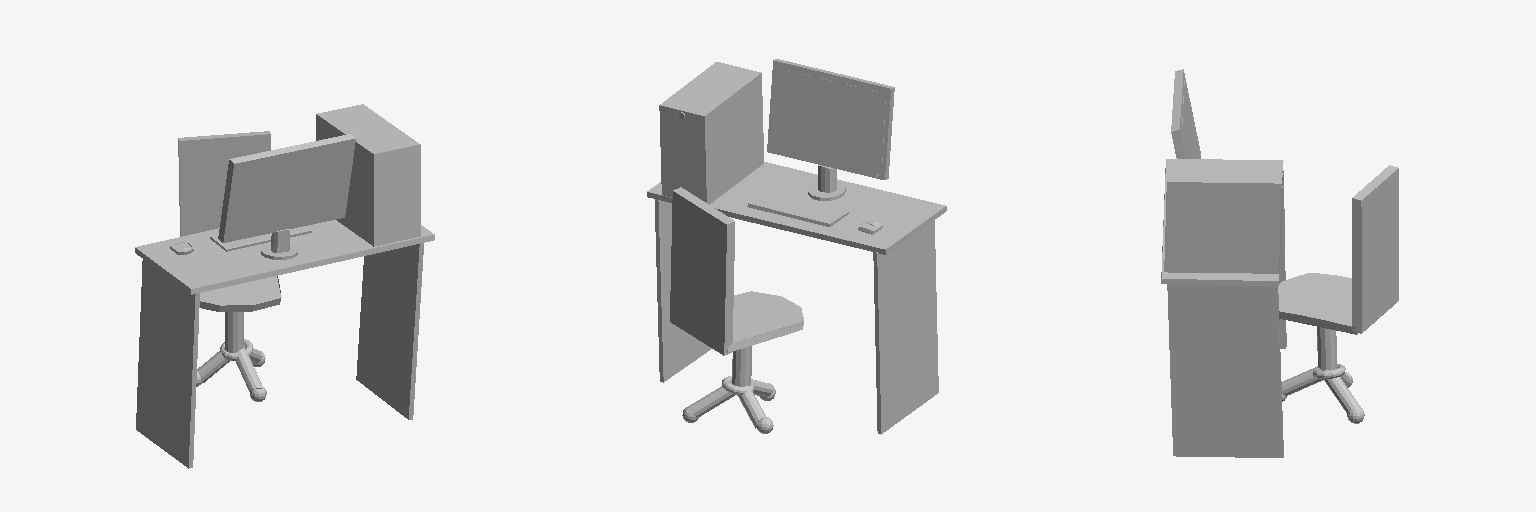
The model's file is desk.obj.
3 renders of one model, left to right at view 1: azimuth 30°, elevation 25°; view 2: azimuth 150°, elevation 25°; view 3: azimuth 270°, elevation 25°, orthographic.
Size of the model in its own units: 1.48 by 1.74 by 1.25.